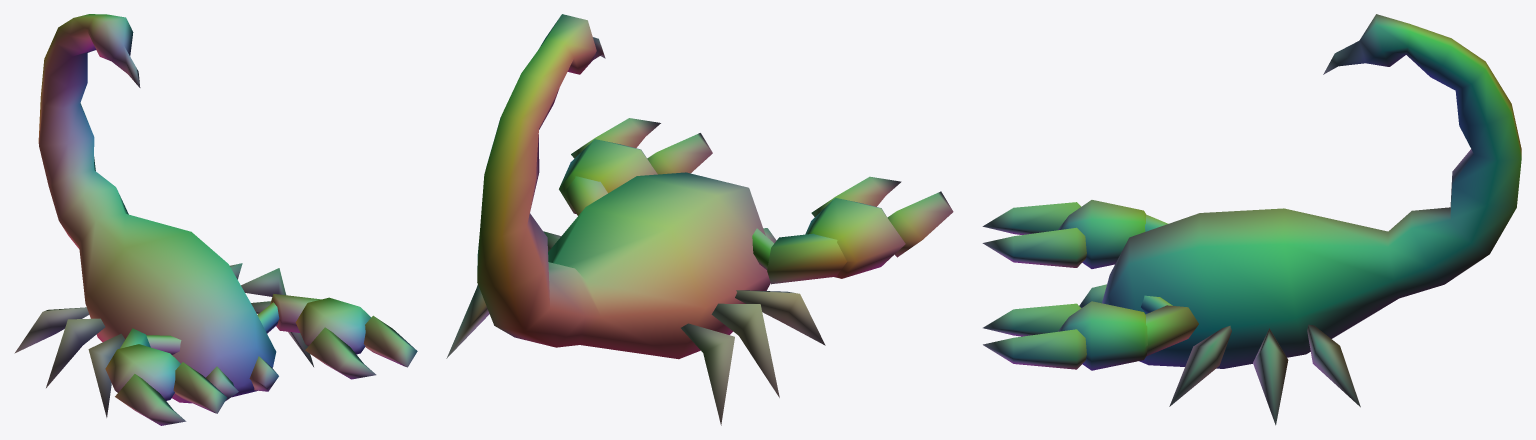
Rendered from Scorpion.fbx.
3 renders of one model, left to right at view 1: azimuth 30°, elevation 25°; view 2: azimuth 150°, elevation 25°; view 3: azimuth 270°, elevation 25°, orthographic. The views are drawn at different scales.
Parts seen in each view (by area): view 1: pCylinder11; view 2: pCylinder11; view 3: pCylinder11.
Part boxes in pixels (<box>): pCylinder11: <box>14,14,417,425</box>; pCylinder11: <box>446,14,953,425</box>; pCylinder11: <box>982,14,1521,425</box>.
Size of the model in its own units: 243 by 256 by 373.
